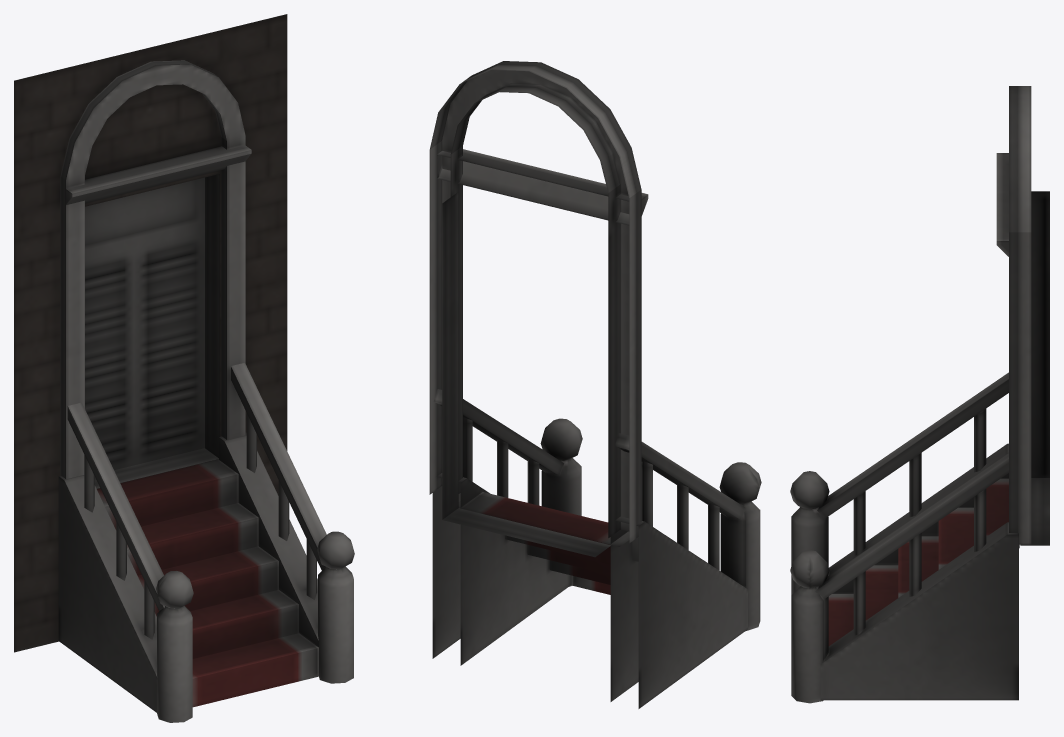
Rendered from B11_Door.FBX.
The picture shows the model from 3 angles, left to right: view 1: azimuth 30°, elevation 25°; view 2: azimuth 150°, elevation 25°; view 3: azimuth 270°, elevation 25°; orthographic projection. The views are drawn at different scales.
Parts seen in each view (by area): view 1: B11_Door; view 2: B11_Door; view 3: B11_Door.
Boxes of the visible parts, x1,y1,x2,y2 form: B11_Door: [14, 14, 354, 722]; B11_Door: [429, 61, 761, 708]; B11_Door: [790, 86, 1049, 703].
Bounding box in the file's own units: 4 × 8 × 3.27.
